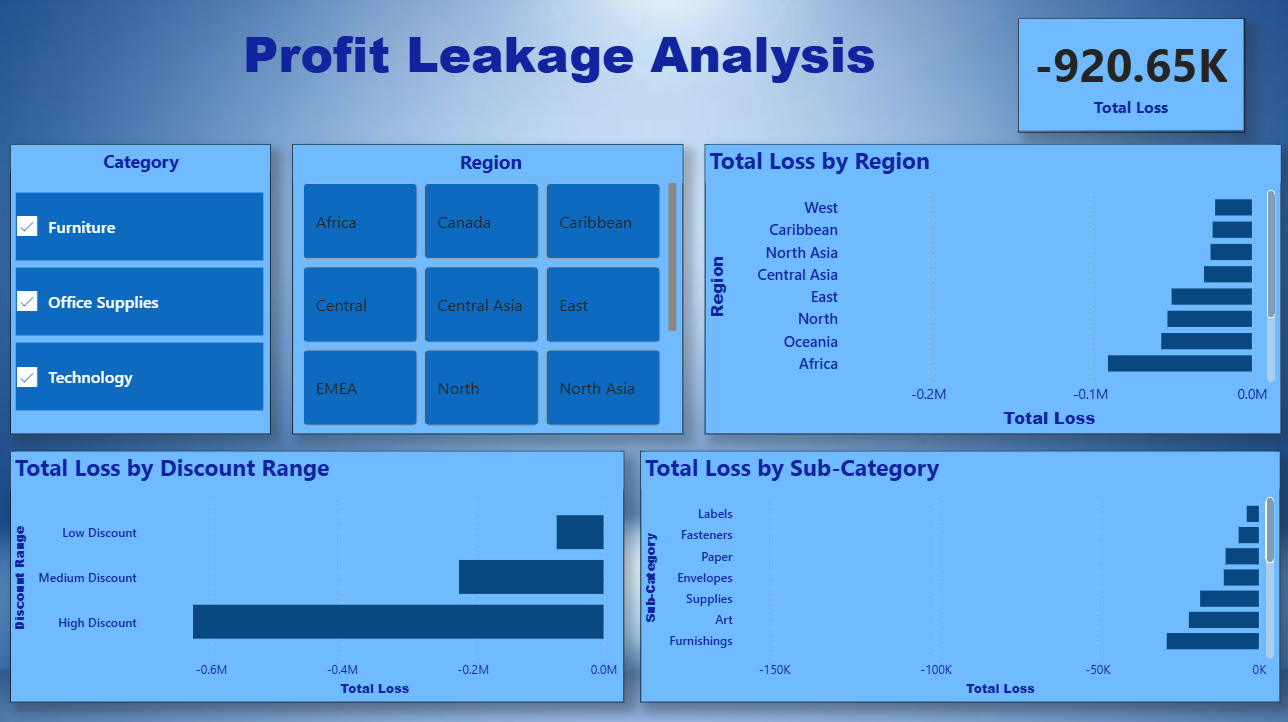

The dashboard page shown, as its layout file describes it:
{"tool":"powerbi","page":{"name":"Profit Leakage Analysis","canvas":[1280,720],"ordinal":4},"visuals":[{"type":"textbox","title":"Profit Leakage Analysis","box":[201.8,23.8,715.4,97.2],"z":0},{"type":"cardVisual","fields":{"Data":["superstore_dataset.Total Loss"]},"box":[1012.6,23.8,223.8,111.9],"z":1000},{"type":"barChart","fields":{"Y":["superstore_dataset.Total Loss"],"Category":["superstore_dataset.Sub-Category"]},"box":[640.2,451.3,631,247.6],"z":2000},{"type":"barChart","fields":{"Y":["superstore_dataset.Total Loss"],"Category":["superstore_dataset.Region"]},"box":[702.6,148.6,568.7,286.2],"z":3000},{"type":"barChart","fields":{"Y":["superstore_dataset.Total Loss"],"Category":["superstore_dataset.Discount Range"]},"box":[18.3,451.3,605.4,247.6],"z":4000},{"type":"listSlicer","fields":{"Values":["superstore_dataset.Category"]},"box":[18.3,148.6,256.8,286.2],"z":5000},{"type":"advancedSlicerVisual","fields":{"Values":["superstore_dataset.Region"]},"box":[295.3,148.6,385.2,286.2],"z":6000}]}

Visuals, with their boxes in screenshot pixels (x1, y1, x2, y2), scaled from the page's 1280x720 canvas onto the 1288x722 screenshot:
"Profit Leakage Analysis" textbox: 203:24:923:121
cardVisual - superstore_dataset.Total Loss: 1019:24:1244:136
barChart - superstore_dataset.Total Loss x superstore_dataset.Sub-Category: 644:453:1279:701
barChart - superstore_dataset.Total Loss x superstore_dataset.Region: 707:149:1279:436
barChart - superstore_dataset.Total Loss x superstore_dataset.Discount Range: 18:453:628:701
listSlicer - superstore_dataset.Category: 18:149:277:436
advancedSlicerVisual - superstore_dataset.Region: 297:149:685:436
